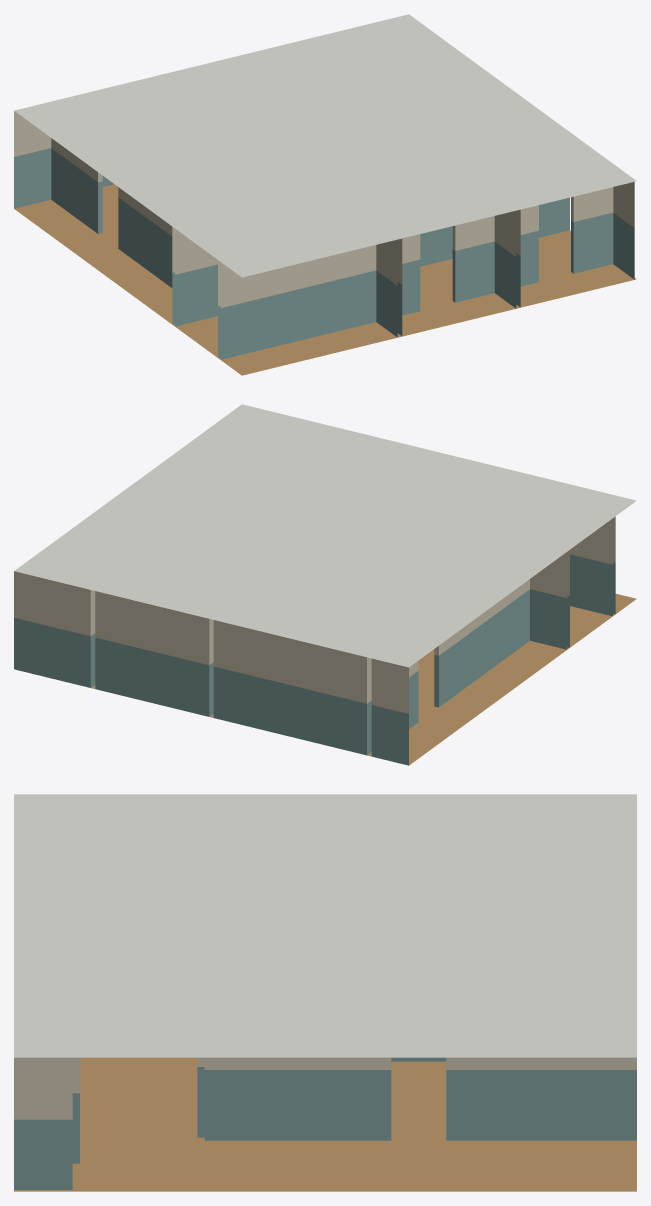
File: chunk_2_0.glb
The picture shows the model from 3 angles, top to bottom: view 1: azimuth 30°, elevation 25°; view 2: azimuth 150°, elevation 25°; view 3: azimuth 270°, elevation 25°; orthographic projection. The views are drawn at different scales.
Visible parts, largest first — view 1: chunk_2_0; view 2: chunk_2_0; view 3: chunk_2_0.
Part boxes in pixels (bbox=[...]): chunk_2_0: bbox=[14, 14, 636, 375]; chunk_2_0: bbox=[14, 404, 636, 765]; chunk_2_0: bbox=[14, 794, 636, 1191].
Size of the model in its own units: 12 by 2.85 by 12.
